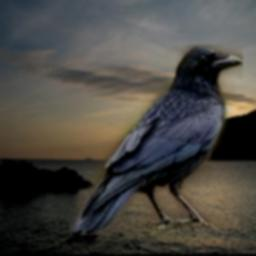Crow: (70, 46, 244, 236)
